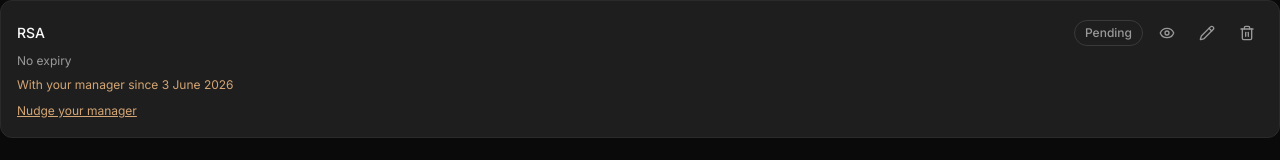
Test: MyDocumentsList › shows an error (and stops rendering the list) when the delete request fails
Expected: the text "RSA" is shown, [17, 23, 45, 43]
Click the button named "Delete RSA" at [1247, 33], box [1231, 17, 1263, 49]
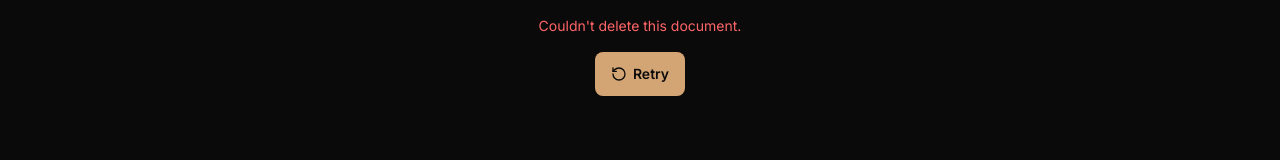
Result: the text "Couldn't delete this document." is shown at [539, 17, 741, 34]
